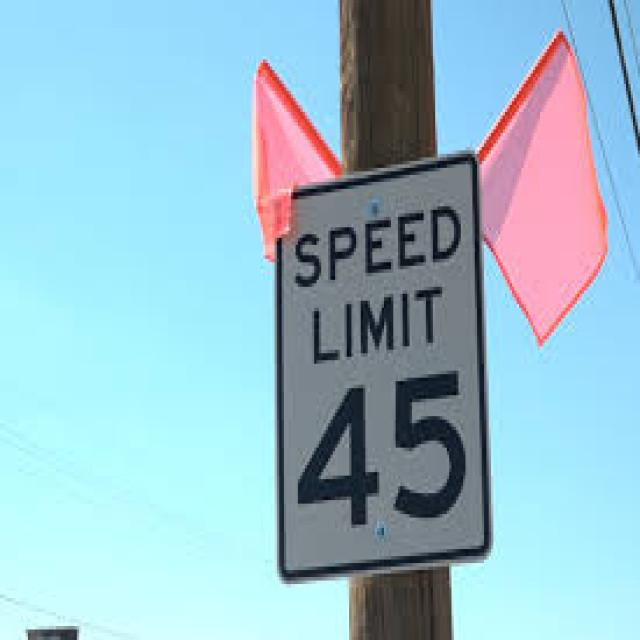speedLimit45: (264, 180, 488, 561)
